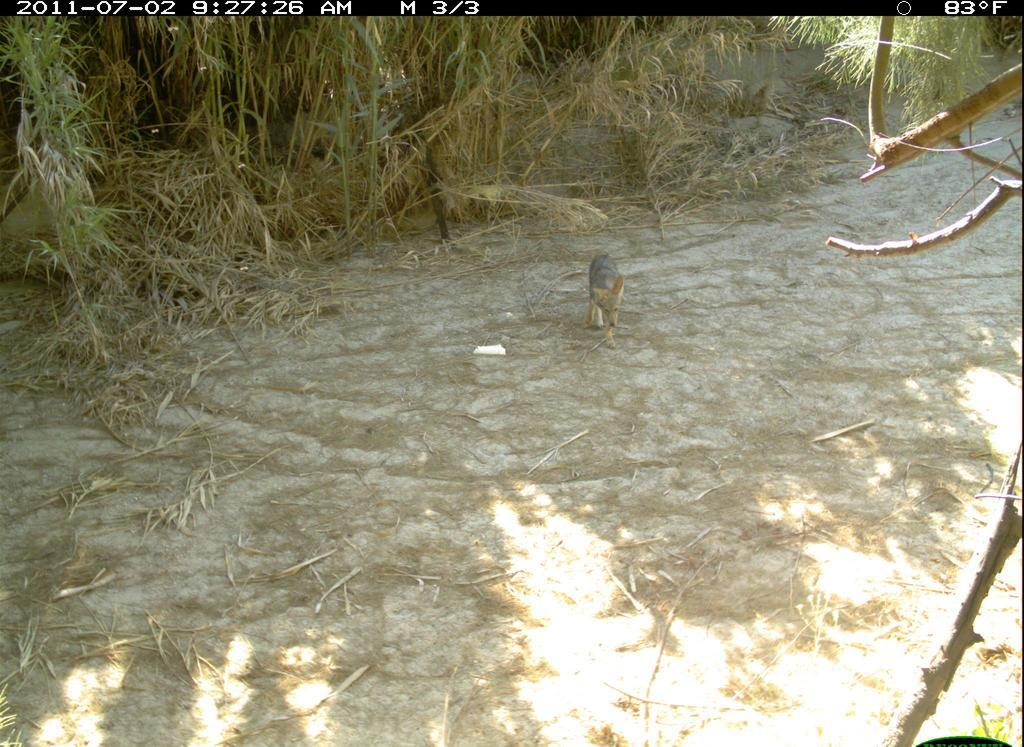coyote: (579, 240, 644, 349)
